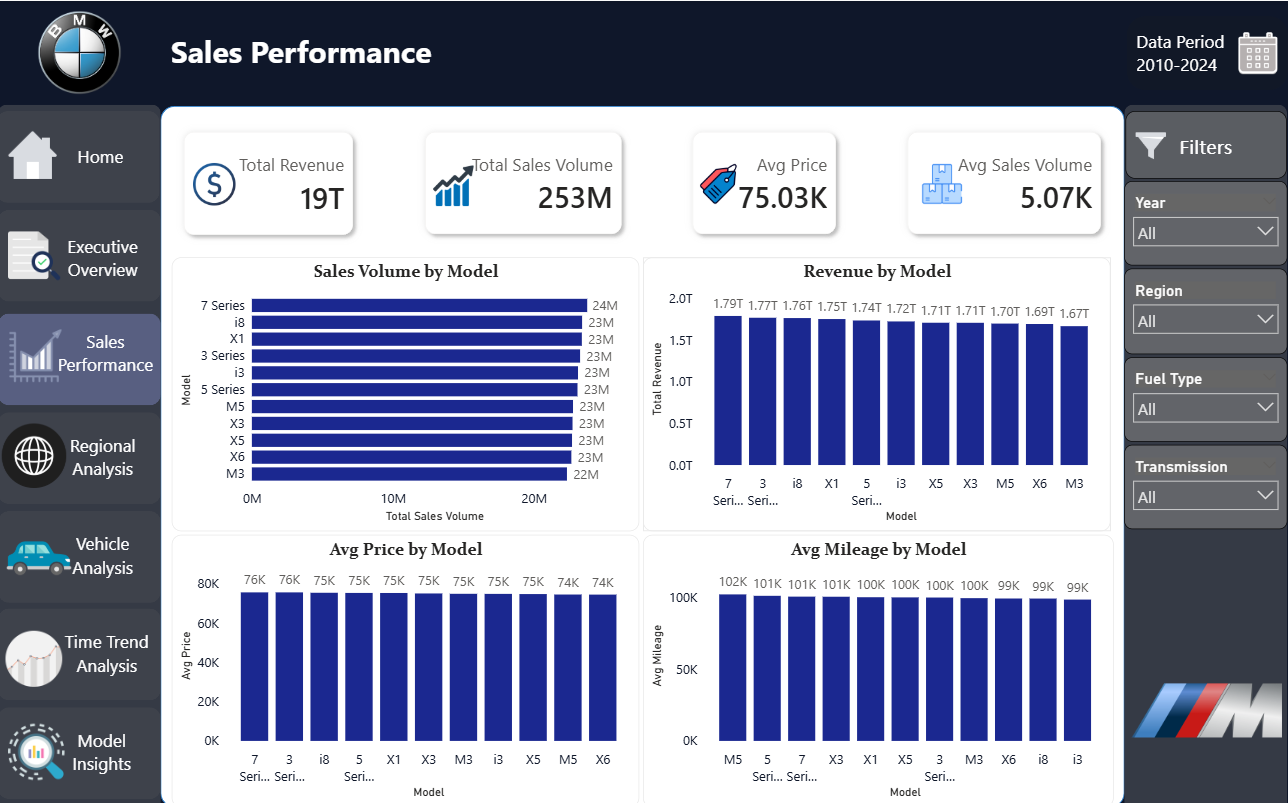

The dashboard page shown, as its layout file describes it:
{"tool":"powerbi","page":{"name":"Sales Performance","canvas":[1600,1000],"ordinal":2},"visuals":[{"type":"shape","box":[1400,18,200,92],"z":0,"group":"g15"},{"type":"shape","box":[202,130,1196,870],"z":0},{"type":"shape","box":[0,258.8,202,114],"z":0,"group":"g8"},{"type":"shape","box":[-0.3,387.9,202,114],"z":0,"group":"g4"},{"type":"shape","box":[0,510,202,114],"z":0,"group":"g5"},{"type":"shape","box":[0,875.8,202,114],"z":0,"group":"g2"},{"type":"image","box":[1530,38,64,52],"z":1000,"group":"g15"},{"type":"shape","box":[1398,128,202,872],"z":1000},{"type":"actionButton","box":[76,510,108,109],"z":1000,"group":"g5"},{"type":"shape","box":[0,128,202,872],"z":2000},{"type":"image","box":[12.8,275.9,65,80],"z":2000,"group":"g8"},{"type":"image","box":[14.2,399,65,80],"z":2000,"group":"g4"},{"type":"image","box":[4.3,524.1,80,80],"z":2000,"group":"g5"},{"type":"image","box":[12.8,890.9,70,80],"z":2000,"group":"g2"},{"type":"actionButton","box":[76,262.8,108,108],"z":2500,"group":"g8"},{"type":"actionButton","box":[70.2,381,127,109],"z":2500,"group":"g4"},{"type":"actionButton","box":[70,875.8,118,110],"z":2500,"group":"g2"},{"type":"cardVisual","fields":{"Data":["fact_bmw_sales.Total Sales Volume"]},"box":[500.7,134,302,185],"z":3000,"group":"g14"},{"type":"cardVisual","fields":{"Data":["fact_bmw_sales.Avg Sales Volume"]},"box":[1100,134,298,185],"z":3000,"group":"g12"},{"type":"clusteredBarChart","title":"Sales Volume by Model","fields":{"Category":["fact_bmw_sales.Model"],"Y":["fact_bmw_sales.Total Sales Volume"]},"box":[216,318,580,340],"z":3000},{"type":"cardVisual","fields":{"Data":["fact_bmw_sales.Avg Price"]},"box":[833.3,134,236,185],"z":4000,"group":"g13"},{"type":"clusteredColumnChart","title":"Revenue by Model","fields":{"Y":["fact_bmw_sales.Total Revenue"],"Category":["fact_bmw_sales.Model"]},"box":[800,318,580,340],"z":4000},{"type":"cardVisual","fields":{"Data":["fact_bmw_sales.Total Revenue"]},"box":[202,134,268,186],"z":5000,"group":"g11"},{"type":"cardVisual","fields":{"Data":["fact_bmw_sales.Total Models"]},"box":[1842,266,254,185],"z":5000,"group":"g9"},{"type":"clusteredColumnChart","fields":{"Category":["fact_bmw_sales.Model"],"Y":["fact_bmw_sales.Avg Price"]},"box":[216,662,580,338],"z":5000},{"type":"clusteredColumnChart","title":"Avg Mileage by Model","fields":{"Category":["fact_bmw_sales.Model"],"Y":["fact_bmw_sales.Avg Mileage"]},"box":[800,662,584,338],"z":6000},{"type":"image","box":[0,0,202,128],"z":7000},{"type":"group","id":"g1","title":"Group 4","box":[938,136,254,186],"z":8000},{"type":"group","id":"g2","title":"Group 11","box":[0,875.8,202.9,113.2],"z":9000},{"type":"group","id":"g3","title":"Group 12","box":[0,754.4,202.9,113.2],"z":10000},{"type":"group","id":"g4","title":"Group 10","box":[-0.3,381,202,120.9],"z":11000},{"type":"group","id":"g5","title":"Group 14","box":[0,510,202,114],"z":12000},{"type":"group","id":"g6","title":"Group 13","box":[-0.8,136.6,202,114],"z":13000},{"type":"group","id":"g7","title":"Group 9","box":[0,632.2,202,114],"z":14000},{"type":"group","id":"g8","title":"Group 15","box":[0,258.8,202,114],"z":15000},{"type":"slicer","fields":{"Values":["fact_bmw_sales.Year"]},"box":[1398,224,202,105],"z":16000},{"type":"image","box":[538.7,200,50,58],"z":16002,"group":"g14"},{"type":"slicer","fields":{"Values":["fact_bmw_sales.Transmission"]},"box":[1398,550,202,105],"z":17000},{"type":"textbox","box":[1399.2,136.7,200,84],"z":18000,"group":"g10"},{"type":"image","box":[242,198,52.8,60.3],"z":18000,"group":"g11"},{"type":"slicer","fields":{"Values":["fact_bmw_sales.Region"]},"box":[1398,332.4,202,106],"z":18000},{"type":"image","box":[1881.5,332,50,60],"z":18001,"group":"g9"},{"type":"image","box":[869.3,198,50,60],"z":18002,"group":"g13"},{"type":"image","box":[1405.6,153.8,50,50],"z":19000,"group":"g10"},{"type":"slicer","fields":{"Values":["fact_bmw_sales.Fuel_Type"]},"box":[1398,441.7,202,105],"z":19000},{"type":"image","box":[1146,198,50,60],"z":19007,"group":"g12"},{"type":"group","id":"g9","title":"Group 3","box":[1842,266,254,185],"z":19010,"group":"g1"},{"type":"image","box":[1406,828,186,104],"z":20000},{"type":"shape","box":[0,632.2,202,114],"z":20007,"group":"g7"},{"type":"shape","box":[0,754.4,202,114],"z":20008,"group":"g3"},{"type":"image","box":[8.5,767.3,70,100],"z":20018,"group":"g3"},{"type":"image","box":[10.7,651.2,80,80],"z":20019,"group":"g7"},{"type":"actionButton","box":[76,754.4,118,110],"z":20518,"group":"g3"},{"type":"actionButton","box":[76,632.2,108,109],"z":20519,"group":"g7"},{"type":"group","id":"g10","title":"Group 16","box":[1399.2,136.7,200,84],"z":21000},{"type":"group","id":"g11","title":"Group 1","box":[202,134,268,186],"z":22000},{"type":"group","id":"g12","title":"Group 2","box":[1100,134,298,185],"z":23000},{"type":"group","id":"g13","title":"Group 5","box":[833.3,134,236,185],"z":24000},{"type":"group","id":"g14","title":"Group 6","box":[500.7,134,302,185],"z":25000},{"type":"shape","box":[-0.8,136.6,202,114],"z":25000,"group":"g6"},{"type":"textbox","box":[210,32,360,70],"z":26000},{"type":"group","id":"g15","title":"Group 17","box":[1400,18,200,92],"z":27000},{"type":"image","box":[4.3,151.7,80,80],"z":27000,"group":"g6"},{"type":"actionButton","box":[69.2,136.6,118,110],"z":27500,"group":"g6"}]}

Visuals, with their boxes in screenshot pixels (x1, y1, x2, y2), scaled from the page's 1600x1000 canvas onto the 1288x803 screenshot:
shape: {"left": 1127, "top": 14, "right": 1287, "bottom": 88}
shape: {"left": 163, "top": 104, "right": 1125, "bottom": 802}
shape: {"left": 0, "top": 208, "right": 163, "bottom": 299}
shape: {"left": 0, "top": 311, "right": 162, "bottom": 403}
shape: {"left": 0, "top": 410, "right": 163, "bottom": 501}
shape: {"left": 0, "top": 703, "right": 163, "bottom": 795}
image: {"left": 1232, "top": 31, "right": 1283, "bottom": 72}
shape: {"left": 1125, "top": 103, "right": 1287, "bottom": 802}
actionButton: {"left": 61, "top": 410, "right": 148, "bottom": 497}
shape: {"left": 0, "top": 103, "right": 163, "bottom": 802}
image: {"left": 10, "top": 222, "right": 63, "bottom": 286}
image: {"left": 11, "top": 320, "right": 64, "bottom": 385}
image: {"left": 3, "top": 421, "right": 68, "bottom": 485}
image: {"left": 10, "top": 715, "right": 67, "bottom": 780}
actionButton: {"left": 61, "top": 211, "right": 148, "bottom": 298}
actionButton: {"left": 57, "top": 306, "right": 159, "bottom": 393}
actionButton: {"left": 56, "top": 703, "right": 151, "bottom": 792}
cardVisual - fact_bmw_sales.Total Sales Volume: {"left": 403, "top": 108, "right": 646, "bottom": 256}
cardVisual - fact_bmw_sales.Avg Sales Volume: {"left": 886, "top": 108, "right": 1125, "bottom": 256}
"Sales Volume by Model" clusteredBarChart: {"left": 174, "top": 255, "right": 641, "bottom": 528}
cardVisual - fact_bmw_sales.Avg Price: {"left": 671, "top": 108, "right": 861, "bottom": 256}
"Revenue by Model" clusteredColumnChart: {"left": 644, "top": 255, "right": 1111, "bottom": 528}
cardVisual - fact_bmw_sales.Total Revenue: {"left": 163, "top": 108, "right": 378, "bottom": 257}
clusteredColumnChart - fact_bmw_sales.Model x fact_bmw_sales.Avg Price: {"left": 174, "top": 532, "right": 641, "bottom": 802}
"Avg Mileage by Model" clusteredColumnChart: {"left": 644, "top": 532, "right": 1114, "bottom": 802}
image: {"left": 0, "top": 0, "right": 163, "bottom": 103}
"Group 4" group: {"left": 755, "top": 109, "right": 960, "bottom": 259}
"Group 11" group: {"left": 0, "top": 703, "right": 163, "bottom": 794}
"Group 12" group: {"left": 0, "top": 606, "right": 163, "bottom": 697}
"Group 10" group: {"left": 0, "top": 306, "right": 162, "bottom": 403}
"Group 14" group: {"left": 0, "top": 410, "right": 163, "bottom": 501}
"Group 13" group: {"left": 0, "top": 110, "right": 162, "bottom": 201}
"Group 9" group: {"left": 0, "top": 508, "right": 163, "bottom": 599}
"Group 15" group: {"left": 0, "top": 208, "right": 163, "bottom": 299}
slicer - fact_bmw_sales.Year: {"left": 1125, "top": 180, "right": 1287, "bottom": 264}
image: {"left": 434, "top": 161, "right": 474, "bottom": 207}
slicer - fact_bmw_sales.Transmission: {"left": 1125, "top": 442, "right": 1287, "bottom": 526}
textbox: {"left": 1126, "top": 110, "right": 1287, "bottom": 177}
image: {"left": 195, "top": 159, "right": 237, "bottom": 207}
slicer - fact_bmw_sales.Region: {"left": 1125, "top": 267, "right": 1287, "bottom": 352}
image: {"left": 700, "top": 159, "right": 740, "bottom": 207}
image: {"left": 1132, "top": 124, "right": 1172, "bottom": 164}
slicer - fact_bmw_sales.Fuel_Type: {"left": 1125, "top": 355, "right": 1287, "bottom": 439}
image: {"left": 923, "top": 159, "right": 963, "bottom": 207}
image: {"left": 1132, "top": 665, "right": 1282, "bottom": 748}
shape: {"left": 0, "top": 508, "right": 163, "bottom": 599}
shape: {"left": 0, "top": 606, "right": 163, "bottom": 697}
image: {"left": 7, "top": 616, "right": 63, "bottom": 696}
image: {"left": 9, "top": 523, "right": 73, "bottom": 587}
actionButton: {"left": 61, "top": 606, "right": 156, "bottom": 694}
actionButton: {"left": 61, "top": 508, "right": 148, "bottom": 595}
"Group 16" group: {"left": 1126, "top": 110, "right": 1287, "bottom": 177}
"Group 1" group: {"left": 163, "top": 108, "right": 378, "bottom": 257}
"Group 2" group: {"left": 886, "top": 108, "right": 1125, "bottom": 256}
"Group 5" group: {"left": 671, "top": 108, "right": 861, "bottom": 256}
"Group 6" group: {"left": 403, "top": 108, "right": 646, "bottom": 256}
shape: {"left": 0, "top": 110, "right": 162, "bottom": 201}
textbox: {"left": 169, "top": 26, "right": 459, "bottom": 82}
"Group 17" group: {"left": 1127, "top": 14, "right": 1287, "bottom": 88}
image: {"left": 3, "top": 122, "right": 68, "bottom": 186}
actionButton: {"left": 56, "top": 110, "right": 151, "bottom": 198}
